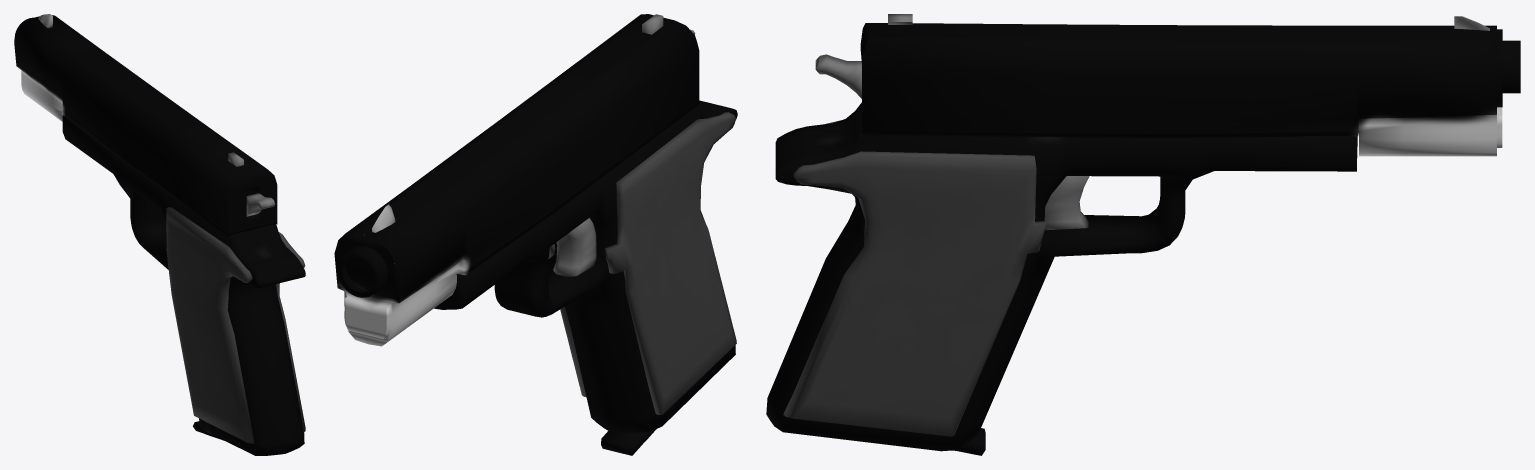
The model's file is colt.fbx.
The picture shows the model from 3 angles, left to right: view 1: azimuth 30°, elevation 25°; view 2: azimuth 150°, elevation 25°; view 3: azimuth 270°, elevation 25°; orthographic projection. The views are drawn at different scales.
Visible parts, largest first — view 1: Cylinder; view 2: Cylinder; view 3: Cylinder.
Part boxes in pixels (bbox=[...]): Cylinder: bbox=[14, 14, 305, 455]; Cylinder: bbox=[334, 14, 737, 455]; Cylinder: bbox=[766, 14, 1520, 455].
Bounding box in the file's own units: 114 × 522 × 818.
1 material, 1 textured.
